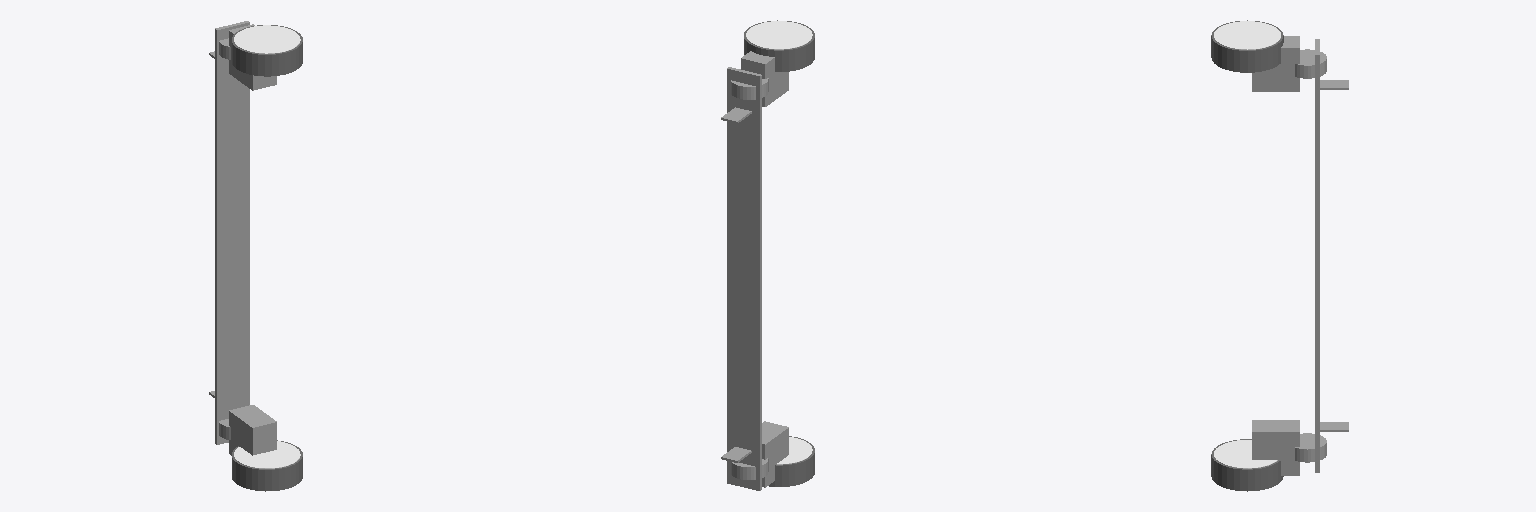
robot.urdf — wheels:
<robot name="wheels">
  <link name="base_link">
    <collision>
      <origin xyz="-0.0 -0.0025 0.0" />
      <geometry>
        <box size="0.04 0.005 0.48" />
      </geometry>
    </collision>
    <visual>
      <origin xyz="-0.0 -0.0025 0.0" />
      <material name="c">
        <color rgba="0.7 0.7 0.7 1.0" />
      </material>
      <geometry>
        <box size="0.04 0.005 0.48" />
      </geometry>
    </visual>
    <collision>
      <origin xyz="0.0 0.015 0.19625" />
      <geometry>
        <box size="0.02 0.03 0.0025" />
      </geometry>
    </collision>
    <visual>
      <origin xyz="0.0 0.015 0.19625" />
      <material name="c">
        <color rgba="0.7 0.7 0.7 1.0" />
      </material>
      <geometry>
        <box size="0.02 0.03 0.0025" />
      </geometry>
    </visual>
    <collision>
      <origin xyz="0.0 0.015 -0.19625" />
      <geometry>
        <box size="0.02 0.03 0.0025" />
      </geometry>
    </collision>
    <visual>
      <origin xyz="0.0 0.015 -0.19625" />
      <material name="c">
        <color rgba="0.7 0.7 0.7 1.0" />
      </material>
      <geometry>
        <box size="0.02 0.03 0.0025" />
      </geometry>
    </visual>
    <collision>
      <origin xyz="0.0 -0.0125 0.22" />
      <geometry>
        <cylinder length="0.015" radius="0.02" />
      </geometry>
    </collision>
    <visual>
      <origin xyz="0.0 -0.0125 0.22" />
      <material name="c">
        <color rgba="0.7 0.7 0.7 1.0" />
      </material>
      <geometry>
        <cylinder length="0.015" radius="0.02" />
      </geometry>
    </visual>
    <collision>
      <origin xyz="0.0 -0.0125 -0.22" />
      <geometry>
        <cylinder length="0.015" radius="0.02" />
      </geometry>
    </collision>
    <visual>
      <origin xyz="0.0 -0.0125 -0.22" />
      <material name="c">
        <color rgba="0.7 0.7 0.7 1.0" />
      </material>
      <geometry>
        <cylinder length="0.015" radius="0.02" />
      </geometry>
    </visual>
    <collision>
      <origin xyz="0.0 -0.075 -0.24" />
      <geometry>
        <cylinder length="0.026" radius="0.035" />
      </geometry>
    </collision>
    <visual>
      <origin xyz="0.0 -0.075 -0.24" />
      <material name="c">
        <color rgba="1.0 1.0 1.0 1.0" />
      </material>
      <geometry>
        <cylinder length="0.026" radius="0.035" />
      </geometry>
    </visual>
    <collision>
      <origin xyz="0.0 -0.075 -0.24" />
      <geometry>
        <cylinder length="0.025" radius="0.0375" />
      </geometry>
    </collision>
    <visual>
      <origin xyz="0.0 -0.075 -0.24" />
      <material name="c">
        <color rgba="0.5 0.5 0.5 1.0" />
      </material>
      <geometry>
        <cylinder length="0.025" radius="0.0375" />
      </geometry>
    </visual>
    <collision>
      <origin xyz="0.0 -0.045 -0.22" />
      <geometry>
        <box size="0.03 0.05 0.05" />
      </geometry>
    </collision>
    <visual>
      <origin xyz="0.0 -0.045 -0.22" />
      <material name="c">
        <color rgba="0.7 0.7 0.7 1.0" />
      </material>
      <geometry>
        <box size="0.03 0.05 0.05" />
      </geometry>
    </visual>
    <collision>
      <origin xyz="0.0 -0.075 0.24" />
      <geometry>
        <cylinder length="0.026" radius="0.035" />
      </geometry>
    </collision>
    <visual>
      <origin xyz="0.0 -0.075 0.24" />
      <material name="c">
        <color rgba="1.0 1.0 1.0 1.0" />
      </material>
      <geometry>
        <cylinder length="0.026" radius="0.035" />
      </geometry>
    </visual>
    <collision>
      <origin xyz="0.0 -0.075 0.24" />
      <geometry>
        <cylinder length="0.025" radius="0.0375" />
      </geometry>
    </collision>
    <visual>
      <origin xyz="0.0 -0.075 0.24" />
      <material name="c">
        <color rgba="0.5 0.5 0.5 1.0" />
      </material>
      <geometry>
        <cylinder length="0.025" radius="0.0375" />
      </geometry>
    </visual>
    <collision>
      <origin xyz="0.0 -0.045 0.22" />
      <geometry>
        <box size="0.03 0.05 0.05" />
      </geometry>
    </collision>
    <visual>
      <origin xyz="0.0 -0.045 0.22" />
      <material name="c">
        <color rgba="0.7 0.7 0.7 1.0" />
      </material>
      <geometry>
        <box size="0.03 0.05 0.05" />
      </geometry>
    </visual>
  </link>
</robot>

--- What the picture shows (computed from the rendered views, not written in the file) ---
3 views of the same robot in one strip: view 1: azimuth 30°, elevation 25°; view 2: azimuth 150°, elevation 25°; view 3: azimuth 270°, elevation 25° (orthographic).
Robot: wheels — 1 links, 0 joints (none); root link base_link; default pose: all joints at 0.
Links seen in each view (by area): view 1: base_link; view 2: base_link; view 3: base_link.
Link boxes in pixels (x1,y1,x2,y2): base_link: [209, 21, 302, 491]; base_link: [721, 20, 814, 490]; base_link: [1211, 20, 1348, 491].
Bounding box of the posed robot: 0.075 × 0.1425 × 0.506 m (x, y, z).
Geometry: primitives only (box / cylinder / sphere), no mesh files.